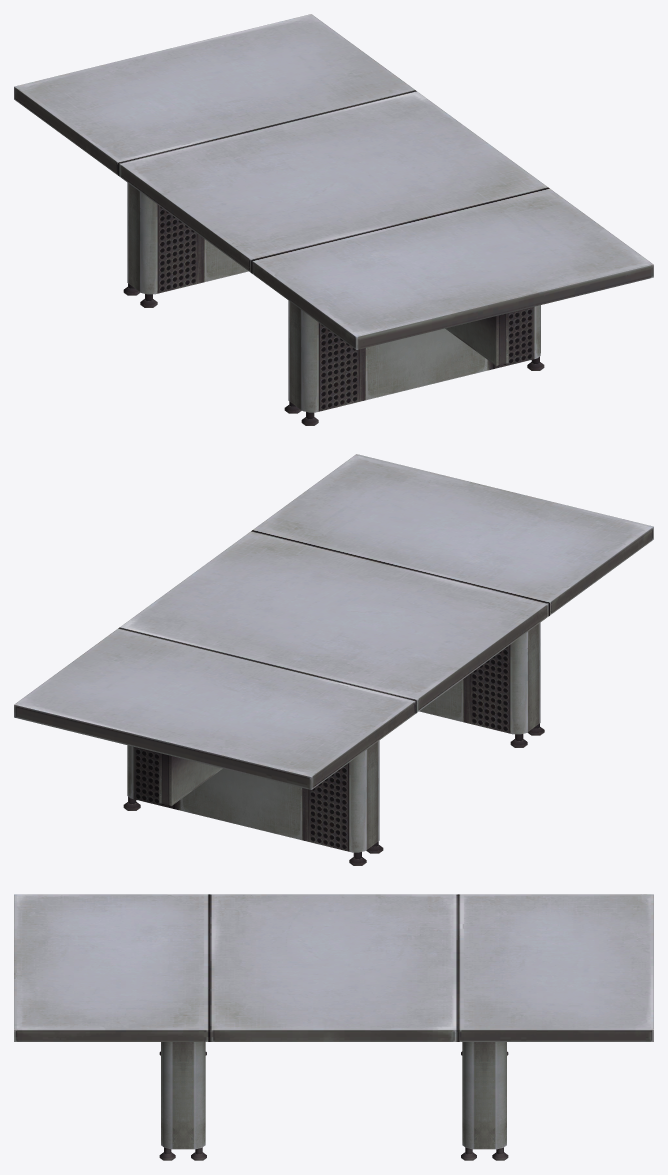
File: TableLarge01.FBX
3 renders of one model, top to bottom at view 1: azimuth 30°, elevation 25°; view 2: azimuth 150°, elevation 25°; view 3: azimuth 270°, elevation 25°, orthographic. The views are drawn at different scales.
Visible parts, largest first — view 1: TableLarge01; view 2: TableLarge01; view 3: TableLarge01.
Part boxes in pixels (x1,y1,x2,y2): TableLarge01: (14, 14, 653, 425); TableLarge01: (14, 454, 653, 865); TableLarge01: (14, 894, 653, 1160).
Bounding box in the file's own units: 1.51 × 0.7497 × 3.01.
